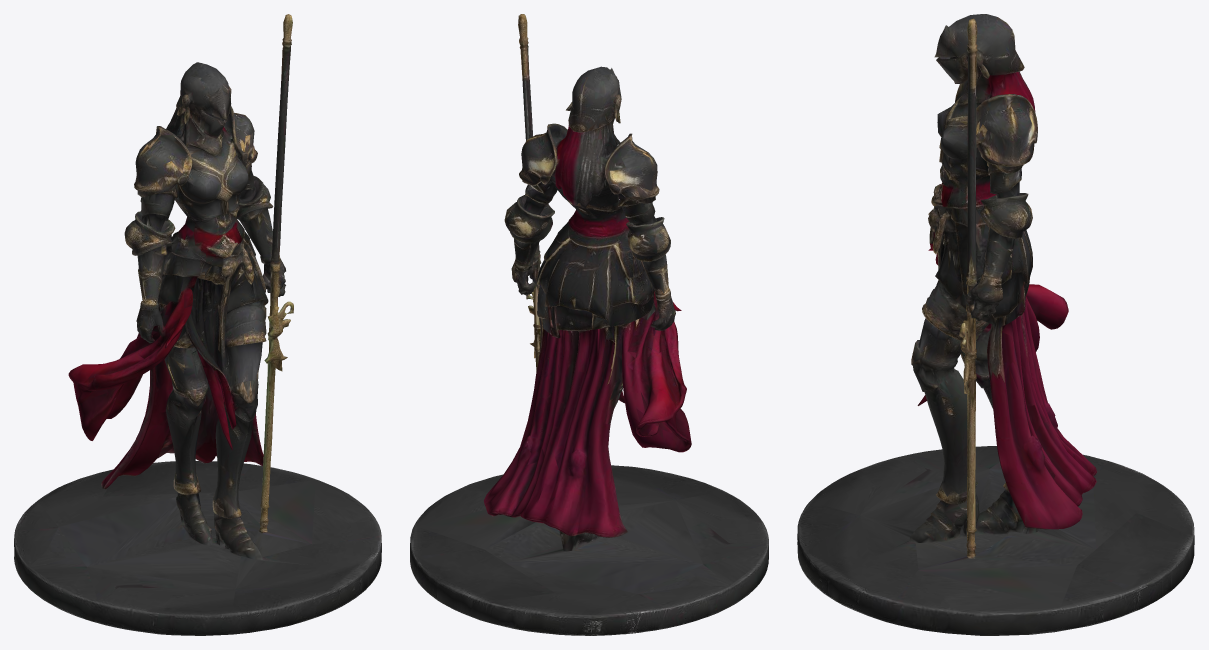
The model's file is obsidian-sentinel.glb.
The picture shows the model from 3 angles, left to right: view 1: azimuth 30°, elevation 25°; view 2: azimuth 150°, elevation 25°; view 3: azimuth 270°, elevation 25°; orthographic projection. The views are drawn at different scales.
Visible parts, largest first — view 1: mesh_node; view 2: mesh_node; view 3: mesh_node.
Boxes of the visible parts, x1=… form: mesh_node: x1=14, y1=14, x2=381, y2=635; mesh_node: x1=410, y1=14, x2=768, y2=635; mesh_node: x1=797, y1=14, x2=1194, y2=635.
Bounding box in the file's own units: 1.19 × 1.9 × 1.19.
1 material, 1 textured.
